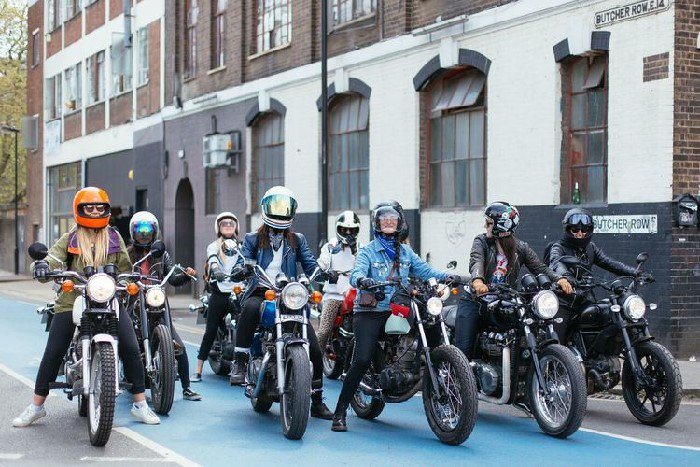helmet: (44, 178, 125, 432), (120, 205, 197, 396), (552, 194, 639, 304), (254, 183, 307, 350), (463, 192, 543, 287), (365, 197, 426, 308), (314, 205, 367, 331), (198, 206, 250, 294)
